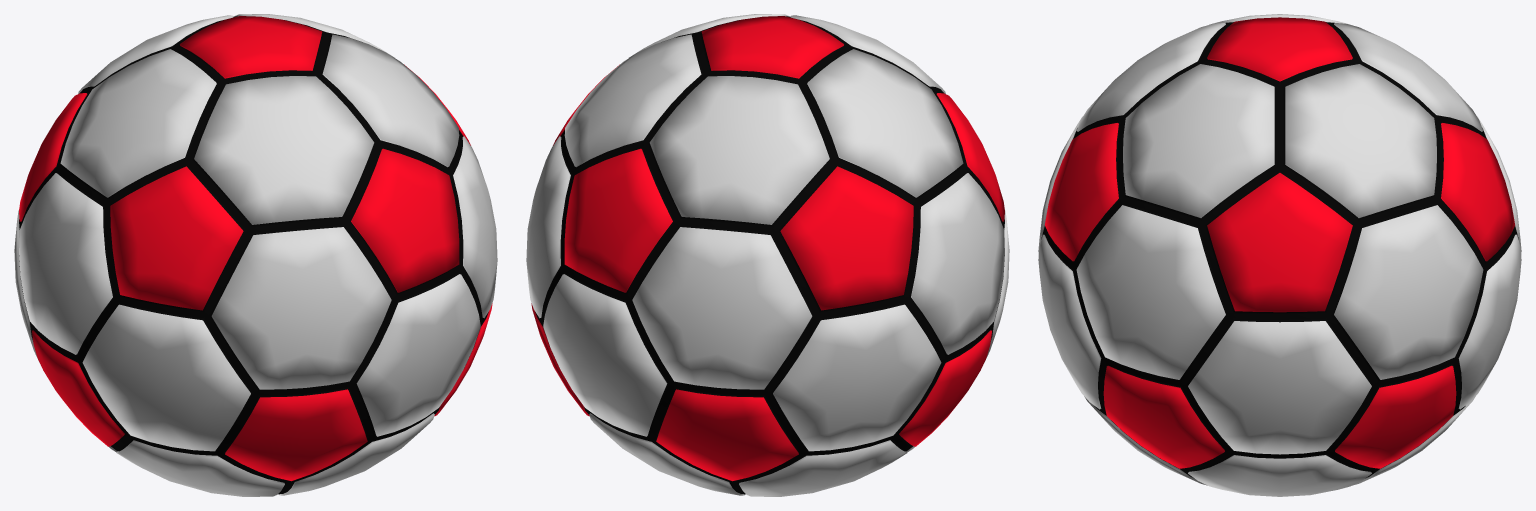
Rendered from balonrojo.glb.
3 views of the same model, side by side, from view 1: azimuth 30°, elevation 25°; view 2: azimuth 150°, elevation 25°; view 3: azimuth 270°, elevation 25° (orthographic).
Parts seen in each view (by area): view 1: BalonRojo; view 2: BalonRojo; view 3: BalonRojo.
Part boxes in pixels (x1=…): BalonRojo: x1=14, y1=14, x2=497, y2=496; BalonRojo: x1=526, y1=14, x2=1009, y2=496; BalonRojo: x1=1038, y1=14, x2=1521, y2=496.
Size of the model in its own units: 1.7 by 1.7 by 1.7.
